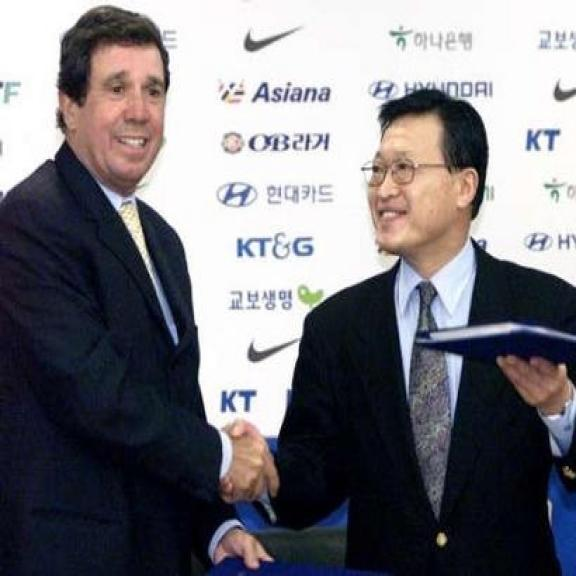face: (362, 108, 478, 255), (75, 35, 169, 190)
